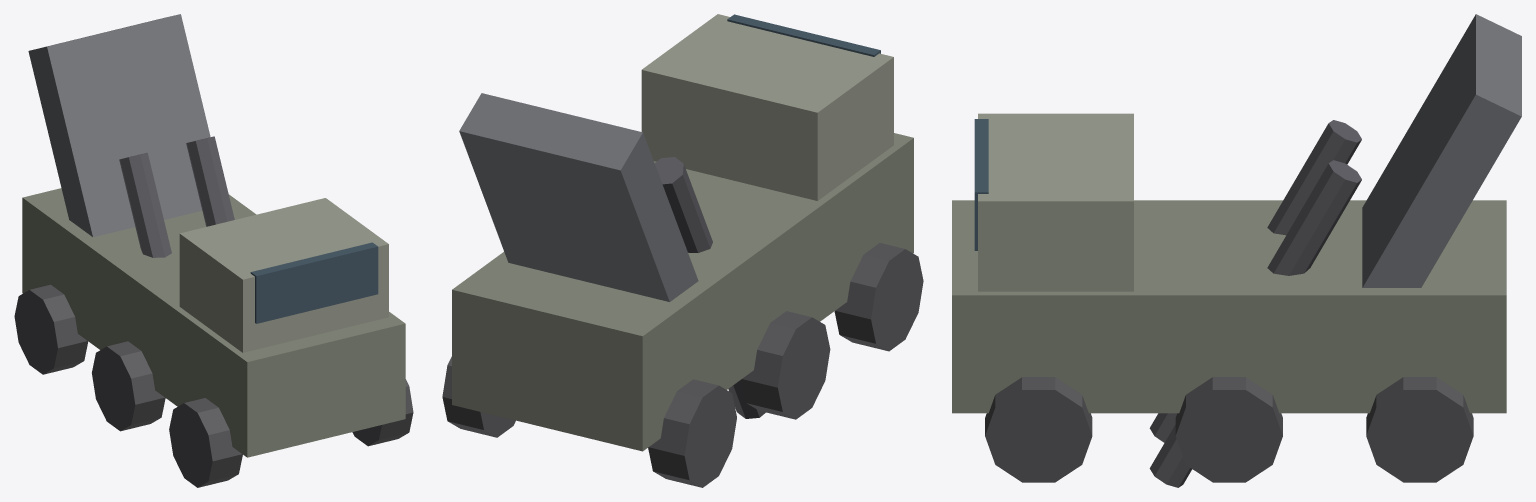
The model's file is soviet_katyusha.glb.
The picture shows the model from 3 angles, left to right: view 1: azimuth 30°, elevation 25°; view 2: azimuth 150°, elevation 25°; view 3: azimuth 270°, elevation 25°; orthographic projection. The views are drawn at different scales.
Parts seen in each view (by area): view 1: hull, turret, Cab, Screen, wheel_l01, wheel_l03, wheel_l02, Tube.001, Tube.003, wheel_r01, Tube; view 2: hull, Cab, turret, wheel_l02, wheel_l01, wheel_l03, Tube.001, wheel_r03, Screen, Tube; view 3: hull, Cab, turret, wheel_r01, wheel_r02, wheel_r03, Tube.003, Tube.001, Tube.002, Screen, Tube.
Boxes of the visible parts, left/top/right/bottom form: hull: left=22, top=188, right=405, bottom=457; turret: left=28, top=14, right=210, bottom=237; Cab: left=179, top=198, right=388, bottom=352; Screen: left=250, top=242, right=378, bottom=323; wheel_l01: left=169, top=398, right=242, bottom=487; wheel_l03: left=14, top=284, right=88, bottom=374; wheel_l02: left=92, top=341, right=165, bottom=431; Tube.001: left=119, top=152, right=163, bottom=257; Tube.003: left=186, top=136, right=231, bottom=226; wheel_r01: left=352, top=379, right=413, bottom=446; Tube: left=145, top=221, right=171, bottom=257; hull: left=452, top=133, right=913, bottom=451; Cab: left=641, top=14, right=893, bottom=200; turret: left=459, top=93, right=698, bottom=301; wheel_l02: left=741, top=311, right=830, bottom=419; wheel_l01: left=834, top=243, right=923, bottom=351; wheel_l03: left=648, top=379, right=736, bottom=487; Tube.001: left=654, top=157, right=710, bottom=252; wheel_r03: left=442, top=356, right=515, bottom=437; Screen: left=727, top=14, right=880, bottom=56; Tube: left=683, top=217, right=765, bottom=418; hull: left=952, top=200, right=1506, bottom=413; Cab: left=978, top=113, right=1133, bottom=291; turret: left=1362, top=14, right=1521, bottom=287; wheel_r01: left=985, top=377, right=1092, bottom=482; wheel_r02: left=1175, top=377, right=1282, bottom=482; wheel_r03: left=1366, top=377, right=1473, bottom=482; Tube.003: left=1267, top=160, right=1361, bottom=275; Tube.001: left=1267, top=120, right=1361, bottom=233; Tube.002: left=1149, top=233, right=1319, bottom=487; Screen: left=974, top=119, right=988, bottom=250; Tube: left=1149, top=199, right=1302, bottom=442.
Size of the model in its own units: 3.3 by 5.23 by 6.58.
